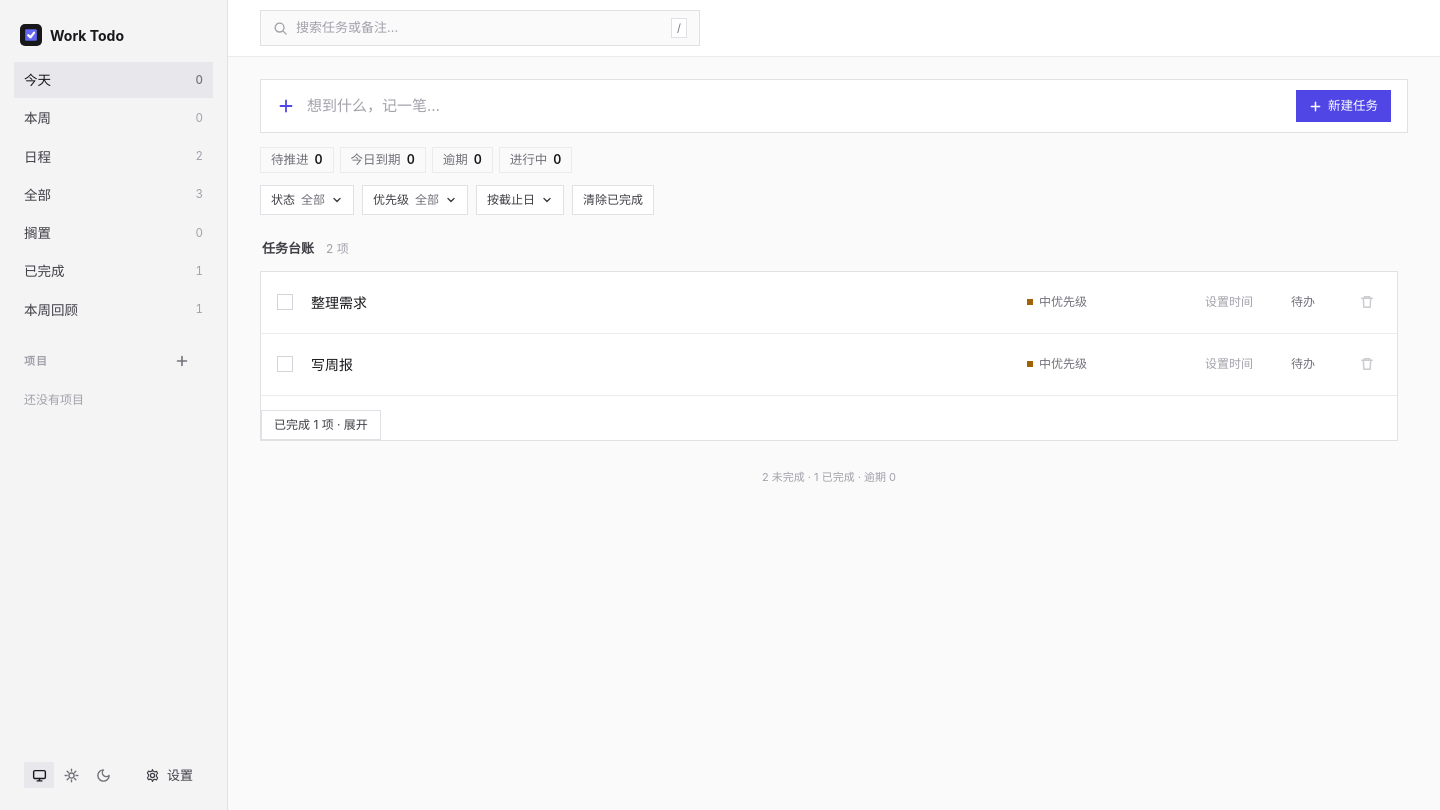
列表行不提供搁置入口 › 未完成与已完成行都没有搁置按钮，批量条是唯一入口
Click the button with class "select-check" next to "整理需求" at (285, 302), box [277, 294, 293, 310]
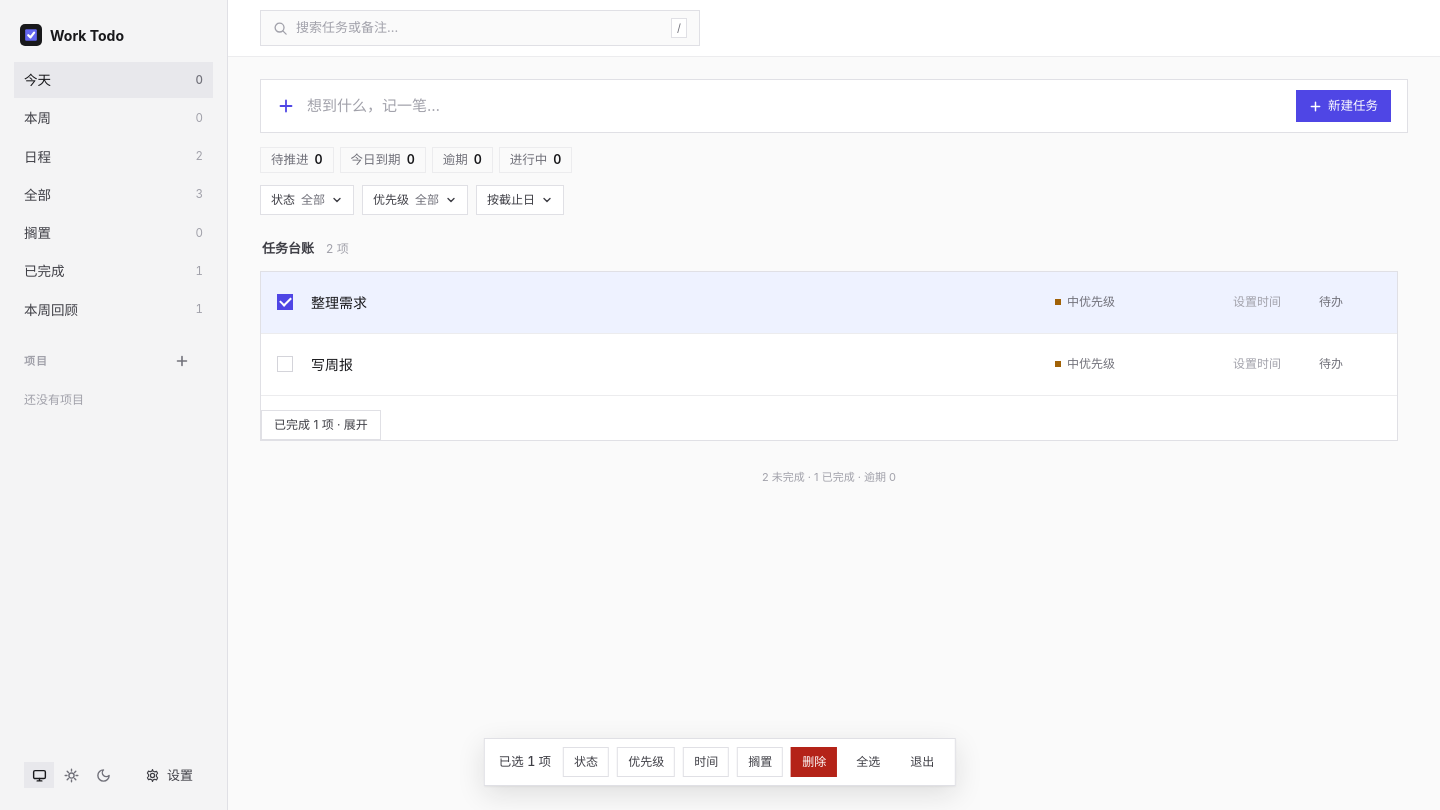
Expected: the button "搁置" is shown, [737, 747, 783, 777]
